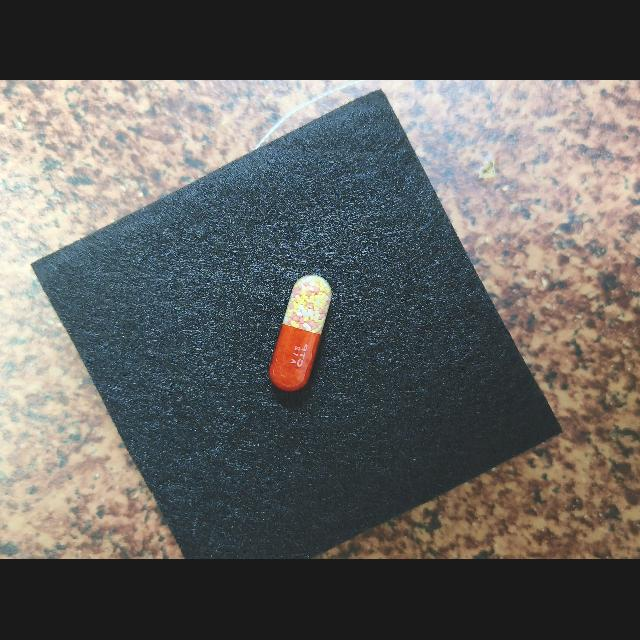Intact Capsule: (269, 275, 332, 392)
